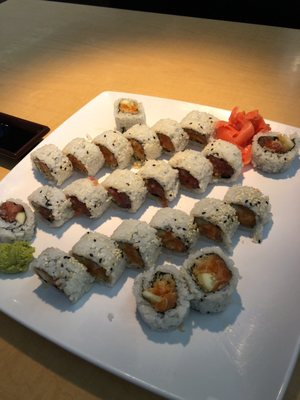curry: (0, 240, 36, 274)
